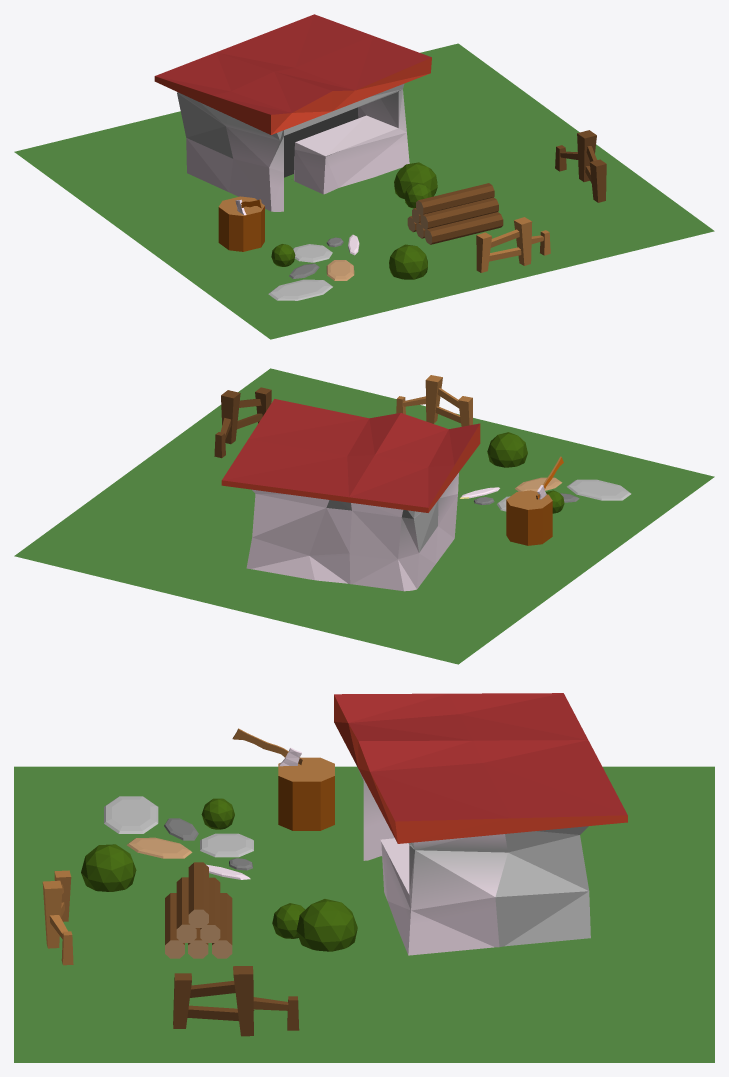
File: Lumber 1.fbx
The picture shows the model from 3 angles, top to bottom: view 1: azimuth 30°, elevation 25°; view 2: azimuth 150°, elevation 25°; view 3: azimuth 270°, elevation 25°; orthographic projection. The views are drawn at different scales.
Parts seen in each view (by area): view 1: Cube; view 2: Cube; view 3: Cube.
Boxes of the visible parts, x1,y1,x2,y2 form: Cube: [14, 14, 714, 339]; Cube: [14, 368, 714, 664]; Cube: [14, 693, 714, 1062].
Size of the model in its own units: 837 by 222 by 837.
